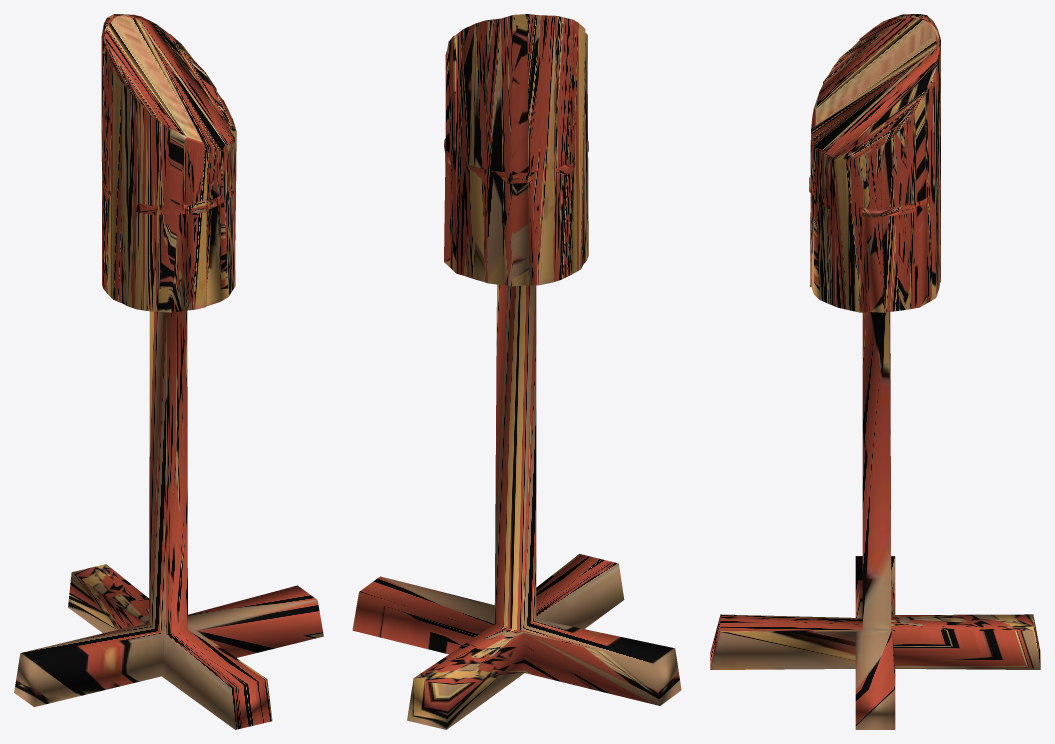
The model's file is target_lo-mobile.glb.
3 renders of one model, left to right at view 1: azimuth 30°, elevation 25°; view 2: azimuth 150°, elevation 25°; view 3: azimuth 270°, elevation 25°, orthographic. The views are drawn at different scales.
Visible parts, largest first — view 1: geometry_0; view 2: geometry_0; view 3: geometry_0.
Boxes of the visible parts, x1=… form: geometry_0: x1=14, y1=14, x2=323, y2=729; geometry_0: x1=352, y1=14, x2=681, y2=729; geometry_0: x1=710, y1=14, x2=1040, y2=729.
Bounding box in the file's own units: 0.7622 × 1.6 × 0.7622.
Materials: 1 (1 with a texture image).
